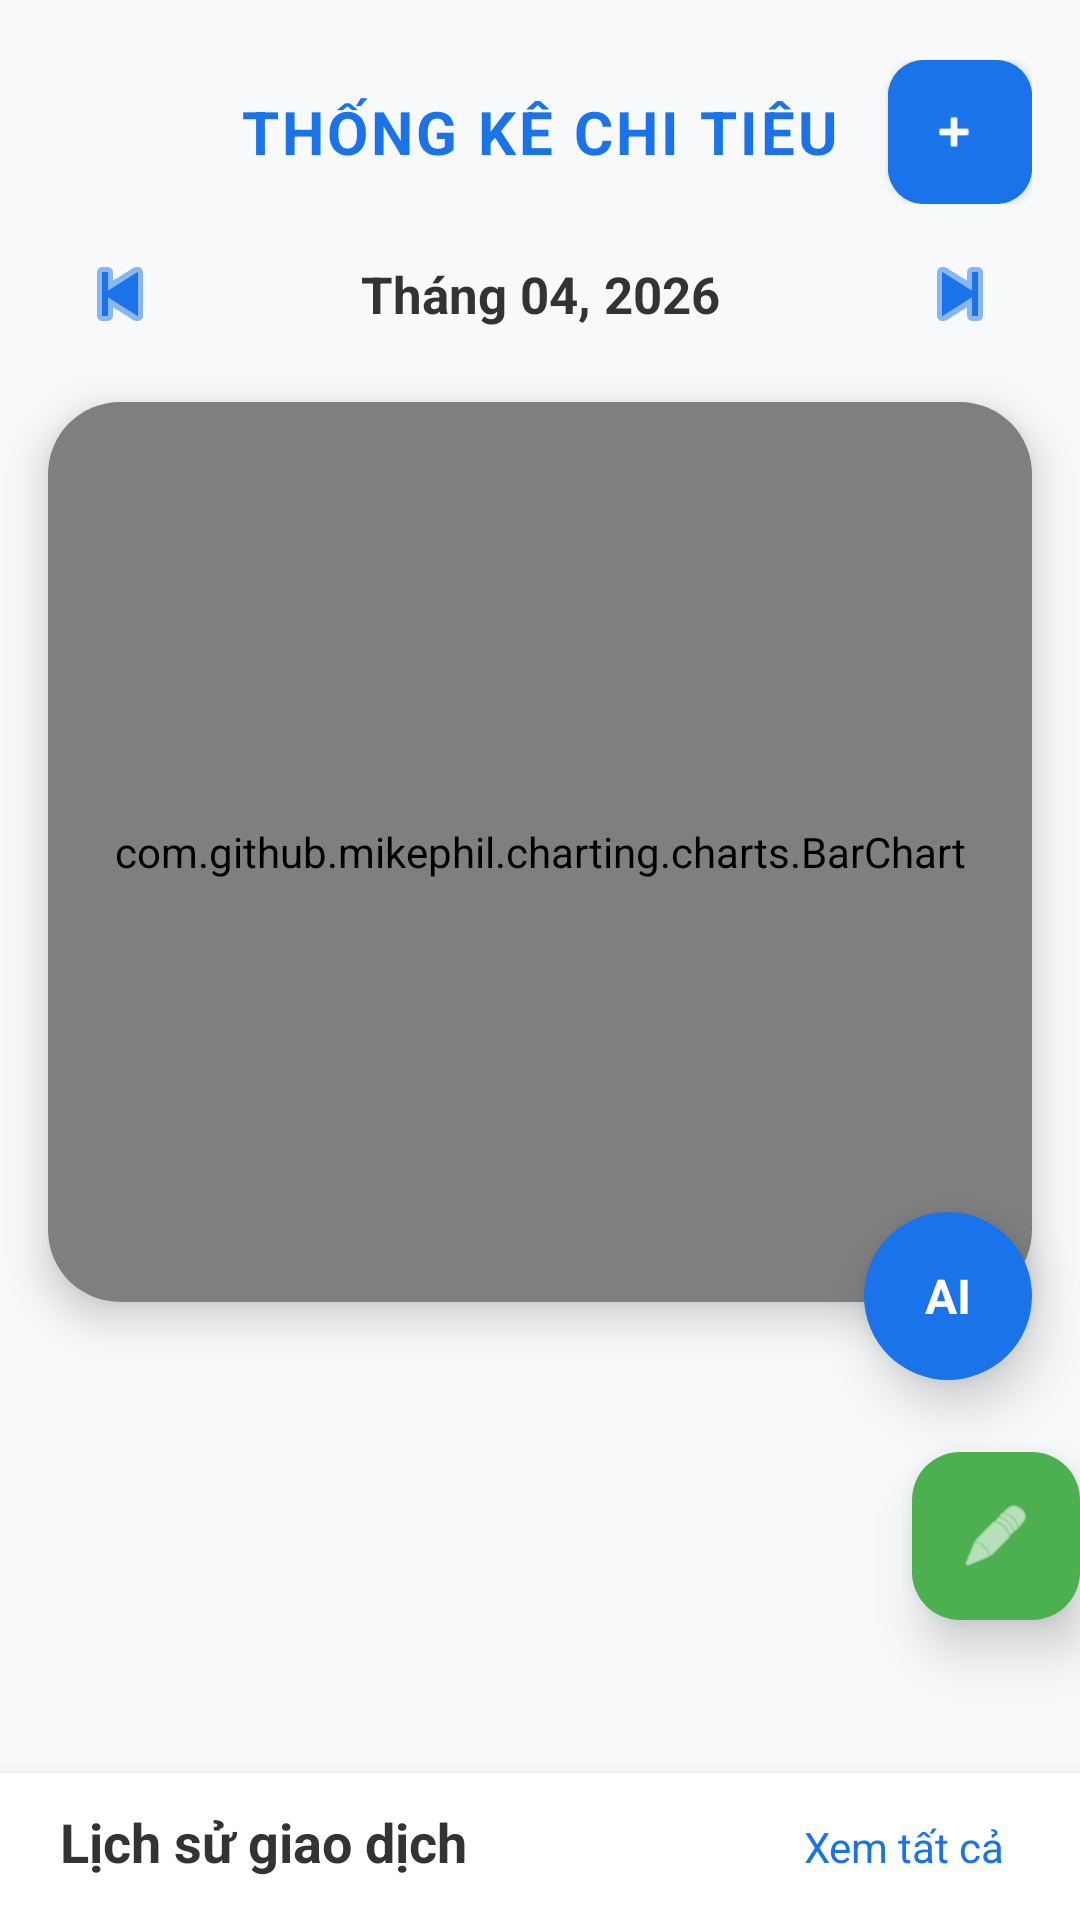

Icons on this 1080×1920 Android screen, each with the point to tap as (x,y):
add: (960,132)
next: (960,294)
previous: (120,294)
